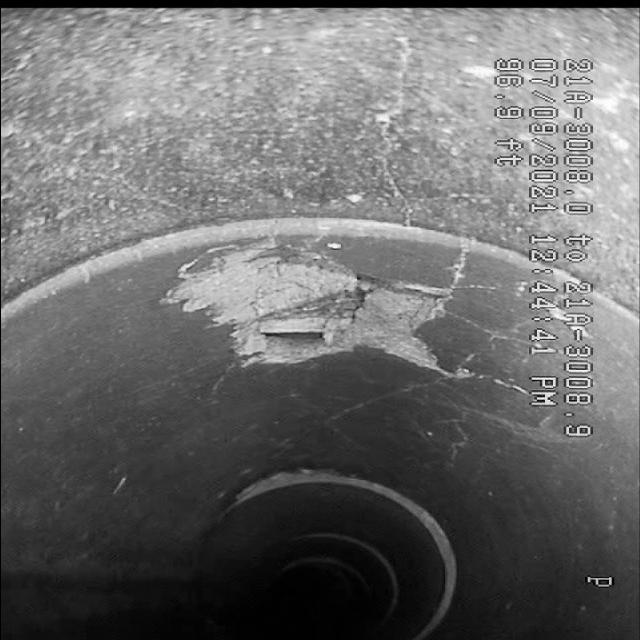Crack: (354, 41, 454, 220)
Fracture: (196, 258, 479, 378)
